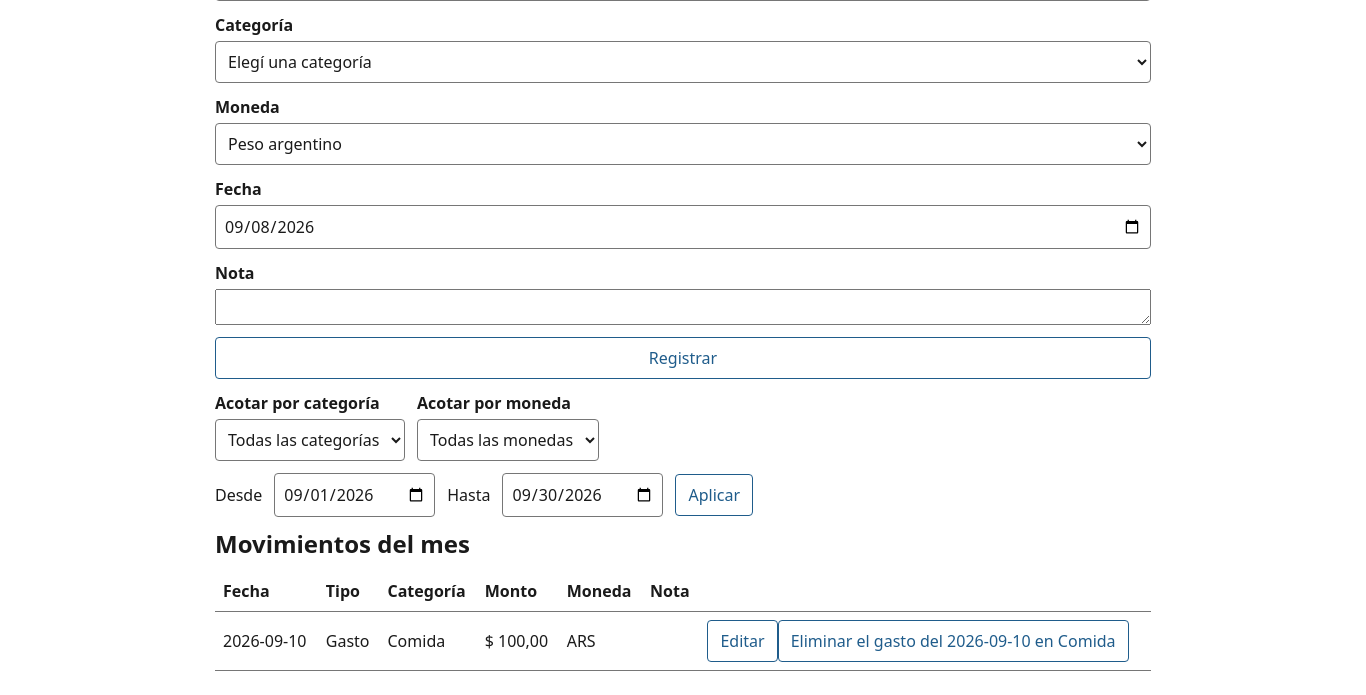
Scenario: FR-018 · el rechazo del período › un rango invertido muestra el mensaje del servidor y deja el listado como estaba (FR-018)
(page scrolled)
Expected: the table named "movimientos del mes" is shown, [215, 571, 1151, 671]
Type "2026-08-31" into the date field labelled "Desde" at (355, 495), box [274, 473, 435, 517]
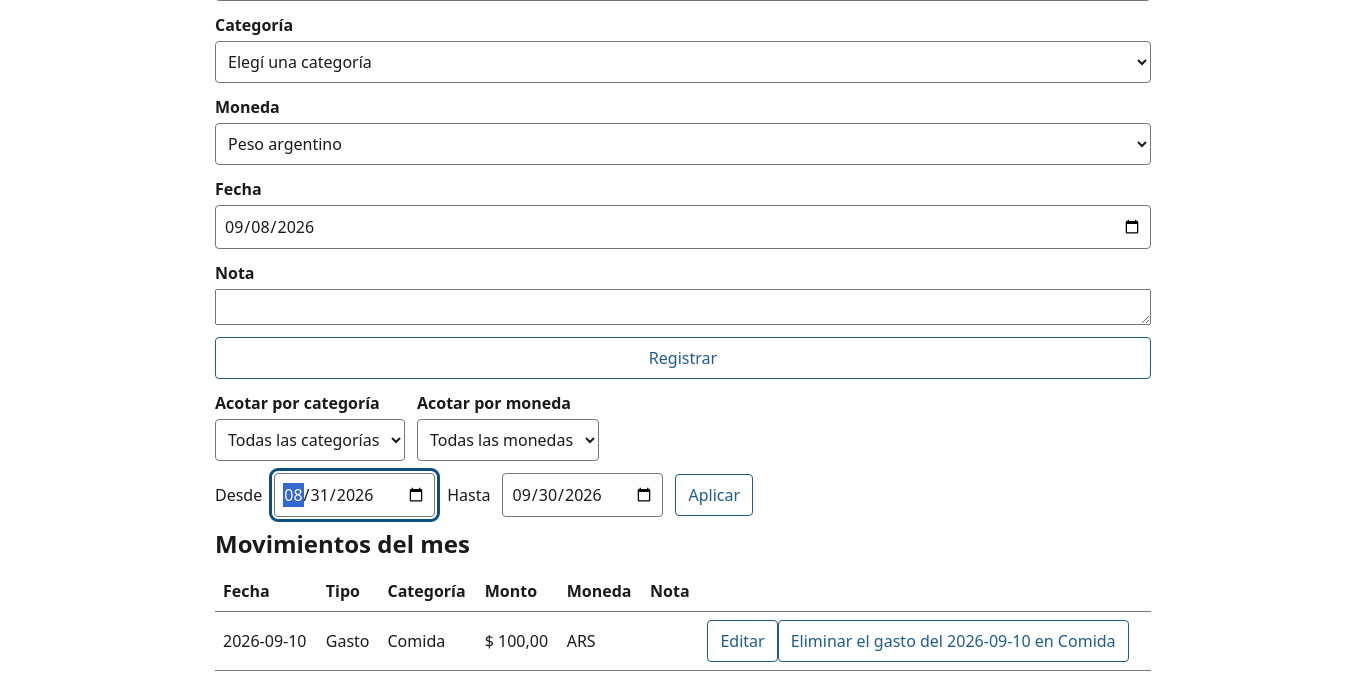
Type "2026-08-01" into the date field labelled "Hasta" at (583, 495), box [502, 473, 664, 517]
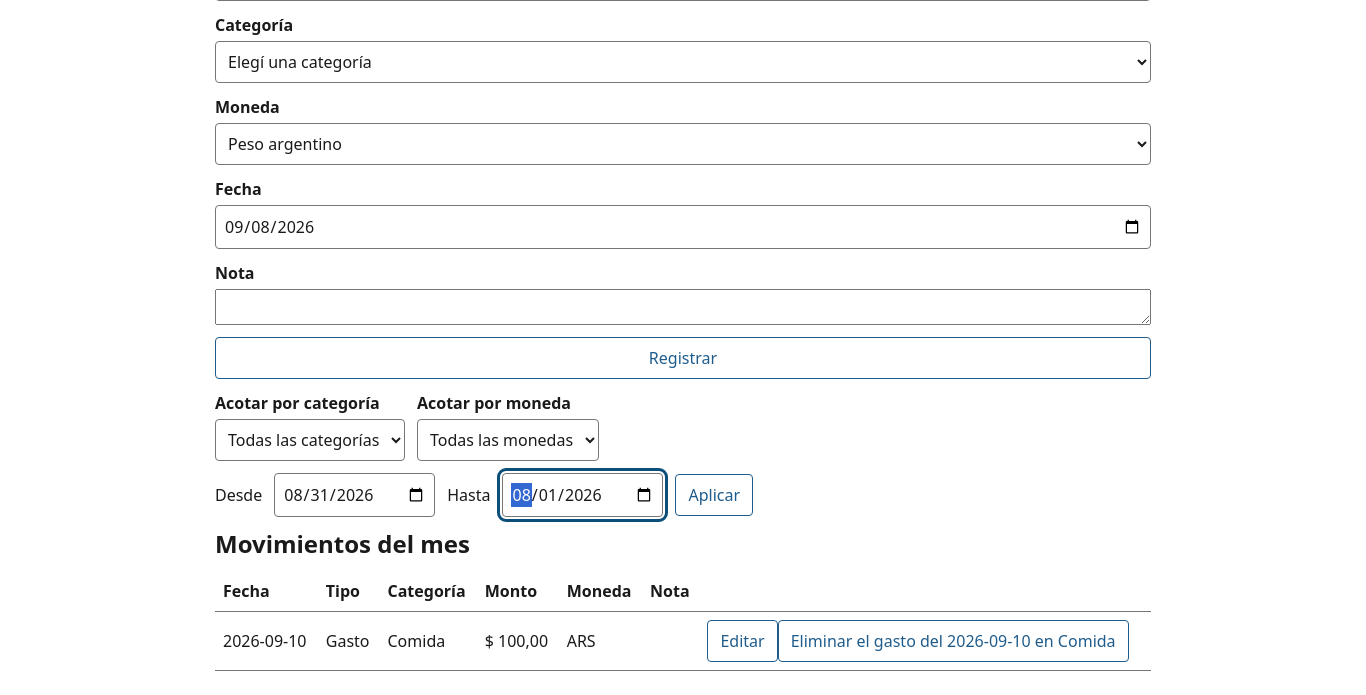
Click the button "Aplicar" at (714, 495), box [676, 474, 753, 516]
(page scrolled)
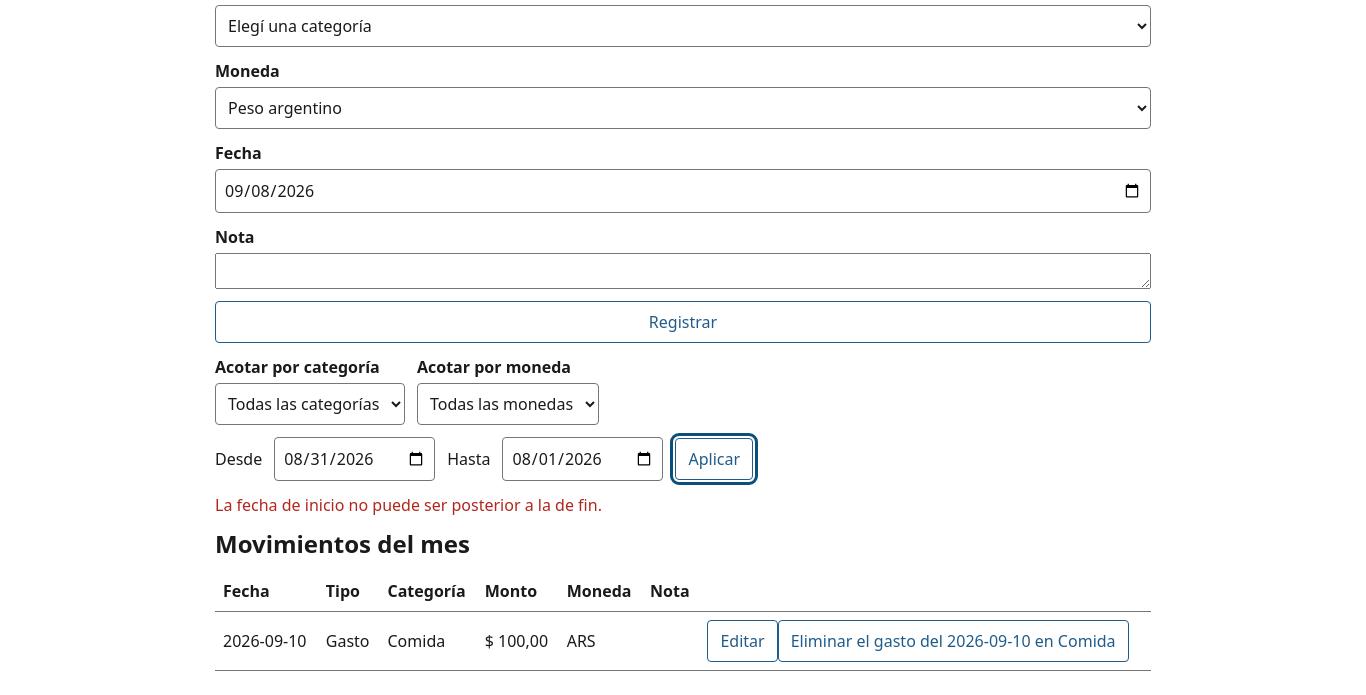
Expected: the cell "Comida" is shown, [380, 611, 477, 670]
Result: the text "La fecha de inicio no puede ser posterior a la de fin." is shown at [215, 493, 602, 517]
